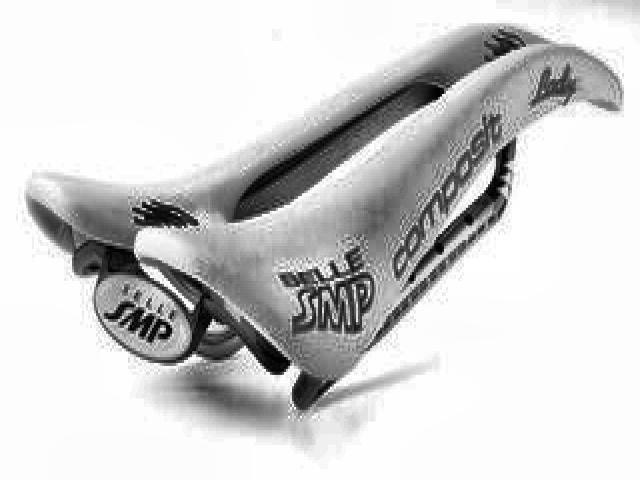saddle: (21, 15, 626, 403)
